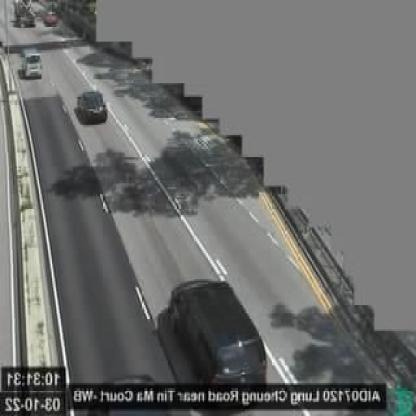Car: (172, 281, 265, 383), (78, 90, 108, 123), (22, 47, 43, 76)
